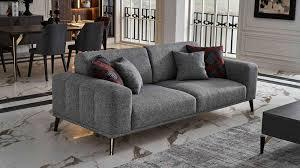chair: (26, 24, 68, 74), (68, 23, 104, 69), (74, 15, 112, 53), (0, 36, 24, 74), (7, 22, 36, 52)
sofa: (47, 47, 259, 153)
table: (1, 23, 106, 75), (251, 94, 300, 156)
